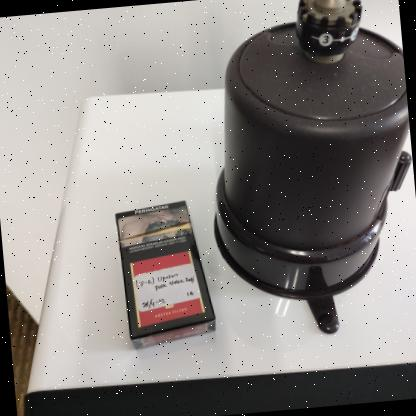bungkus rokok: (101, 184, 225, 358)
